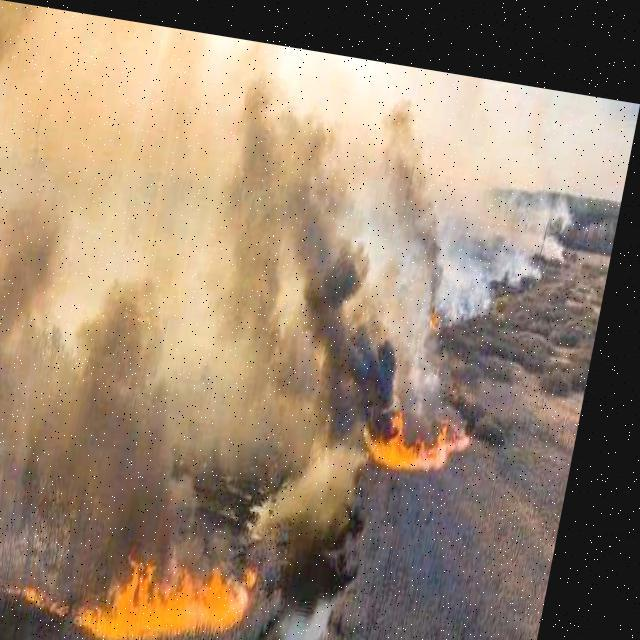Fire: (23, 517, 285, 639), (372, 356, 491, 464), (435, 278, 460, 318)
